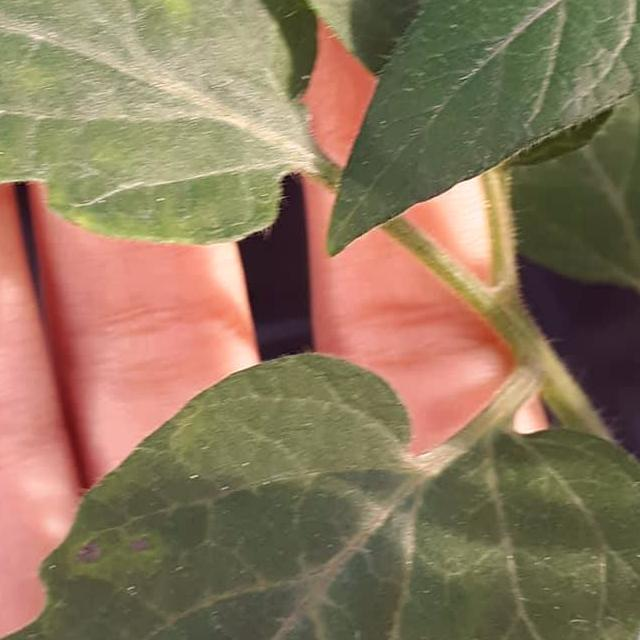Tomato mold leaf: (0, 330, 640, 640), (318, 0, 640, 296), (0, 0, 340, 218)
